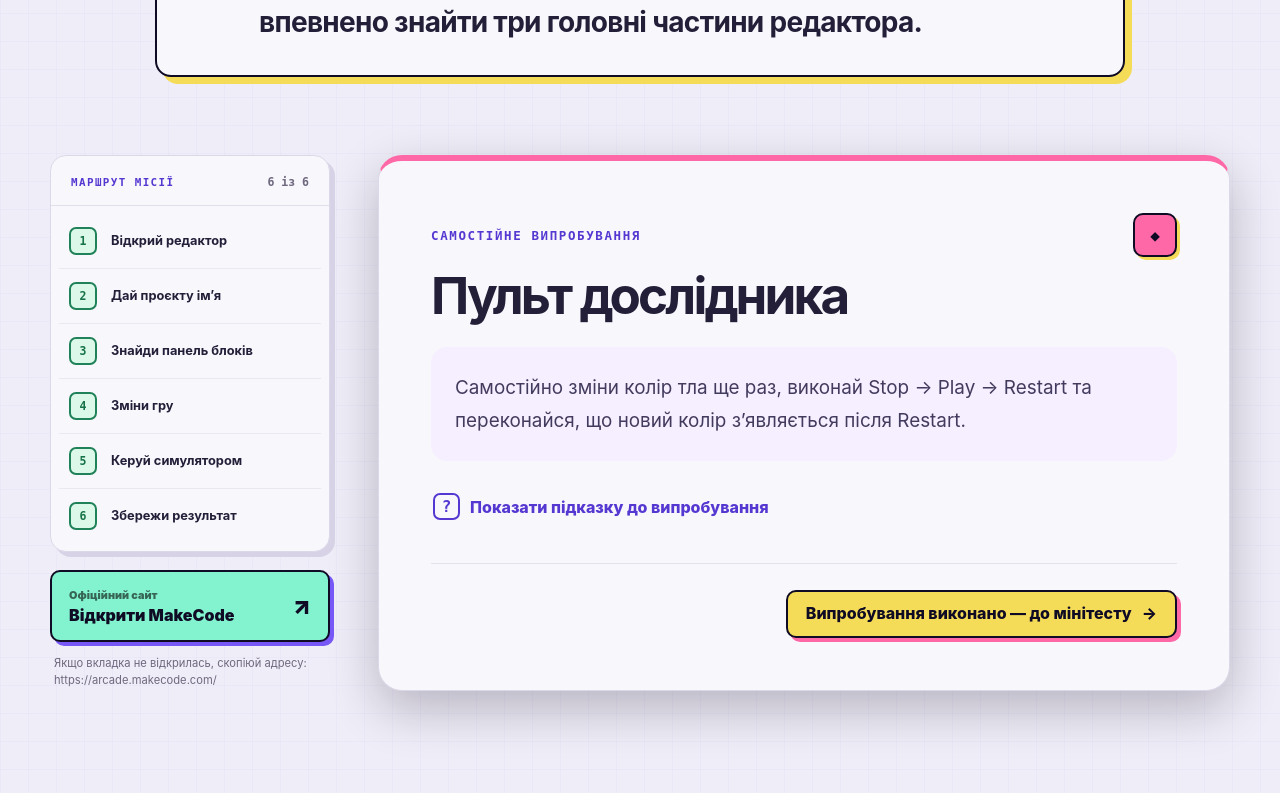
Test: LessonScreen › explains a wrong quiz answer, allows a retry, and never completes it
(page scrolled)
Click the button "Випробування виконано — до мінітесту →": (981, 614) [786, 590, 1177, 638]
(page scrolled)
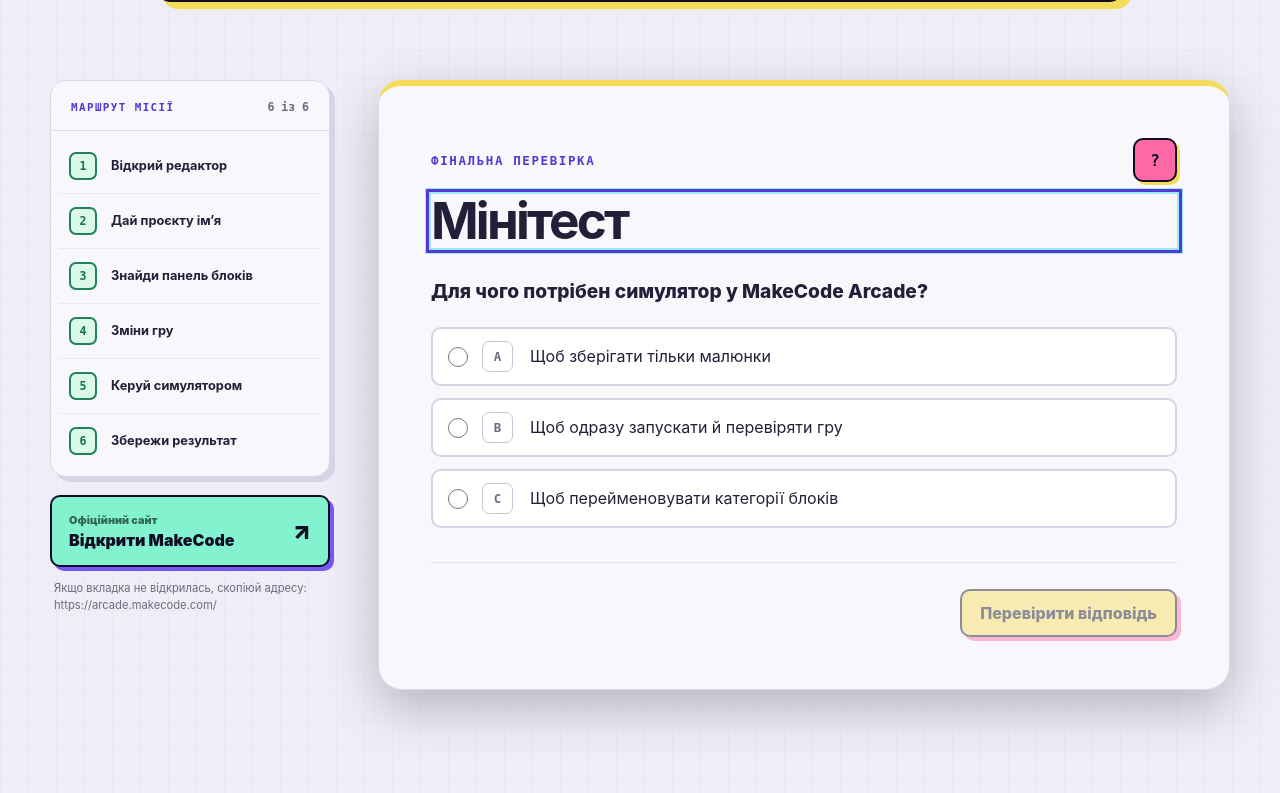
Click the radio button labelled "Щоб зберігати тільки малюнки": (458, 357) [448, 347, 468, 367]
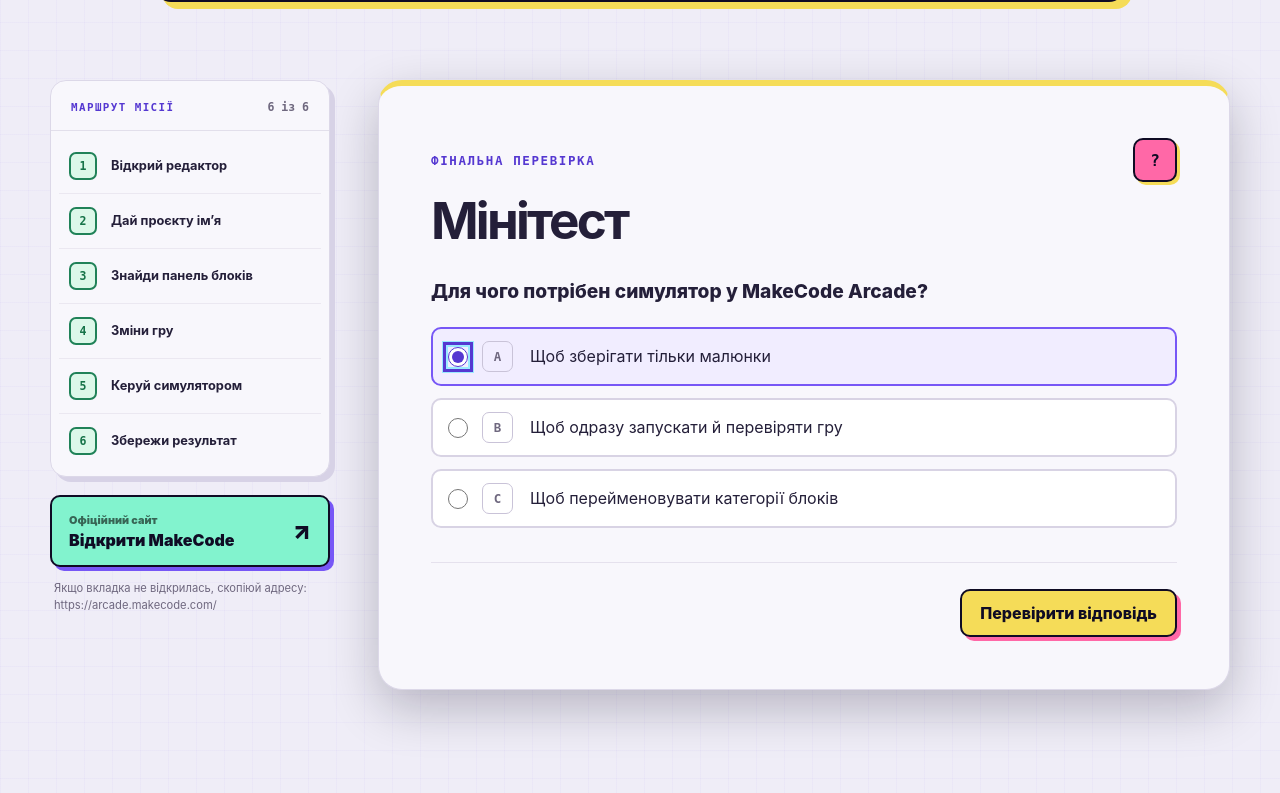
Click the button "Перевірити відповідь": (1069, 614) [960, 590, 1177, 638]
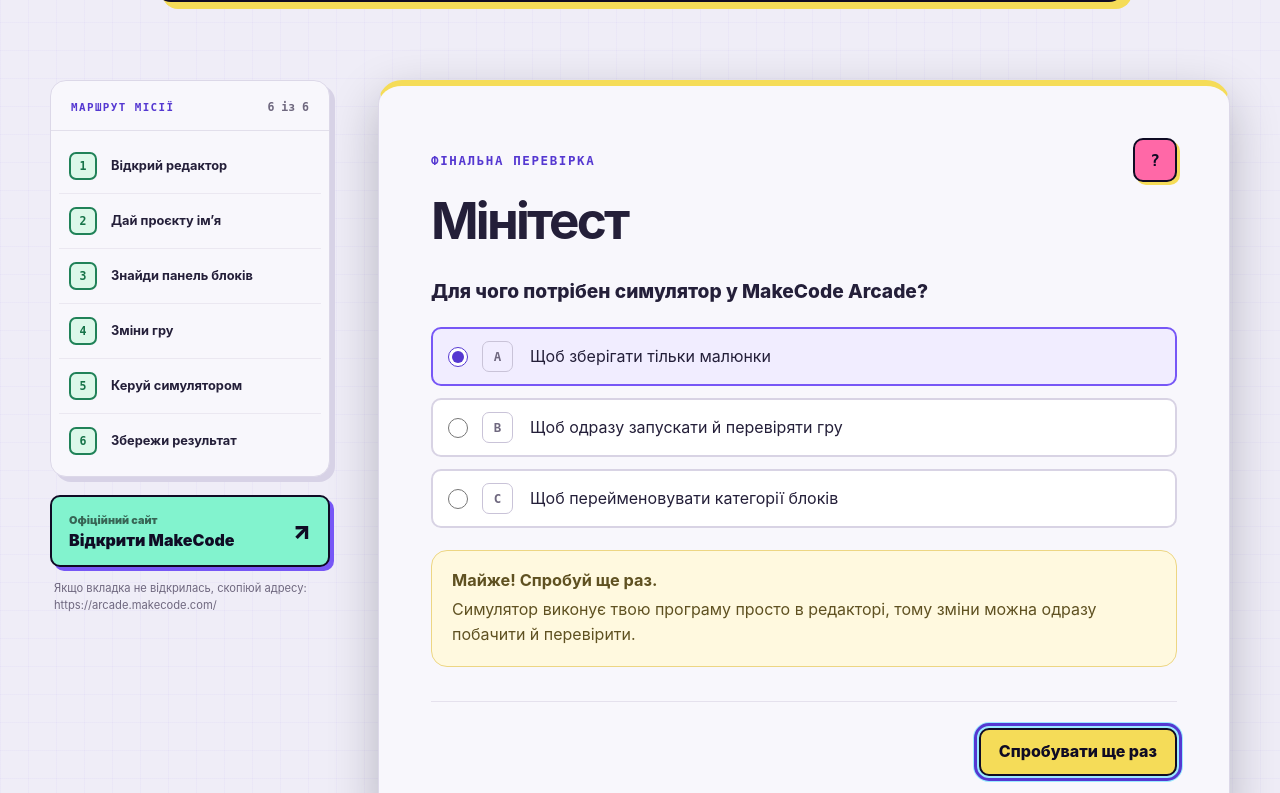
Check: the button "Спробувати ще раз" is enabled, box [979, 728, 1177, 776]
Check: the radio button labelled "Щоб зберігати тільки малюнки" is enabled, box [448, 347, 468, 367]
Check: the text "Симулятор виконує твою програму просто в редакторі, тому зміни можна одразу побачити й перевірити." is shown, box [452, 600, 1097, 644]
